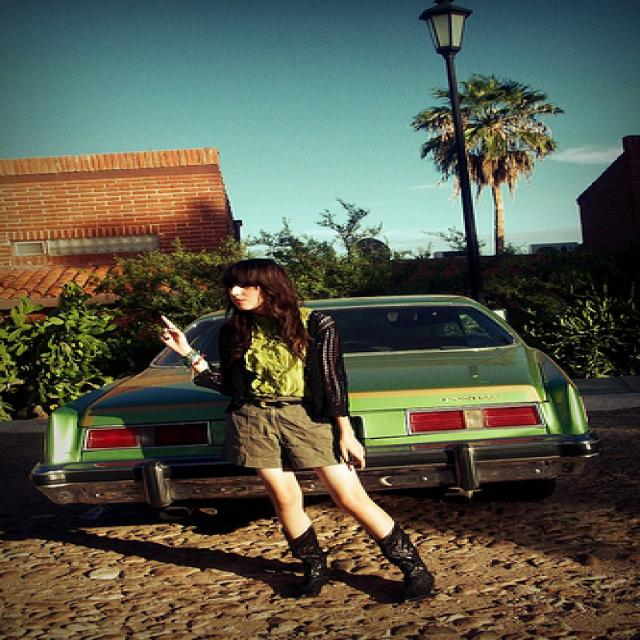Car: (30, 288, 594, 517)
